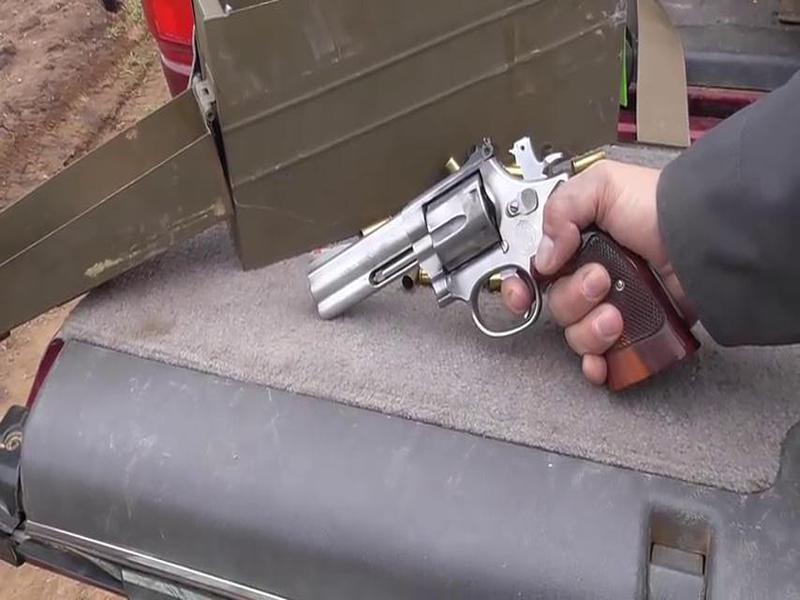Revolver: (304, 134, 617, 394)
